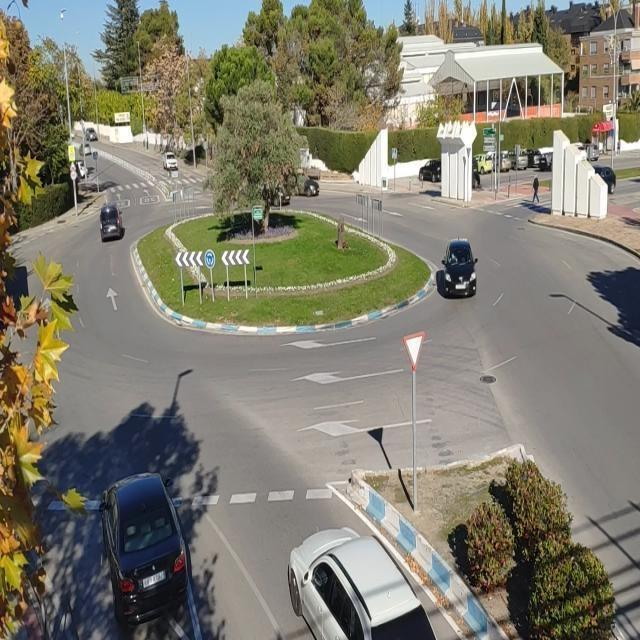Car: (288, 526, 434, 640), (100, 472, 191, 622), (440, 238, 482, 299), (100, 204, 126, 242)
